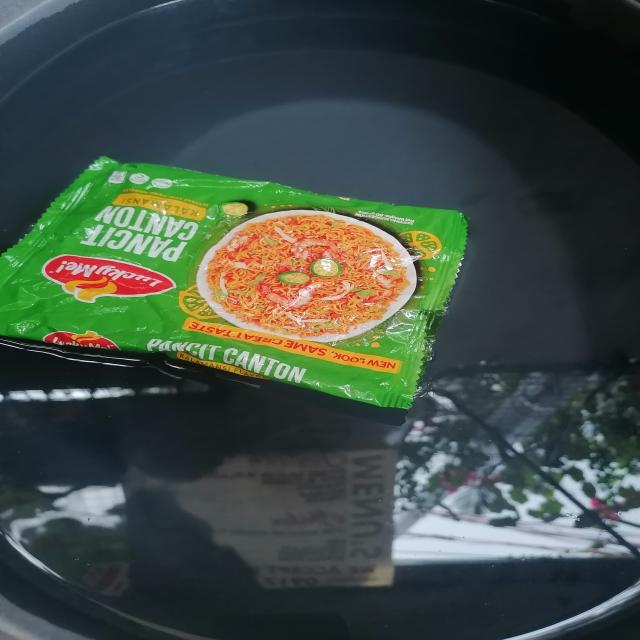Plastic Wrapper: (0, 141, 503, 429)
